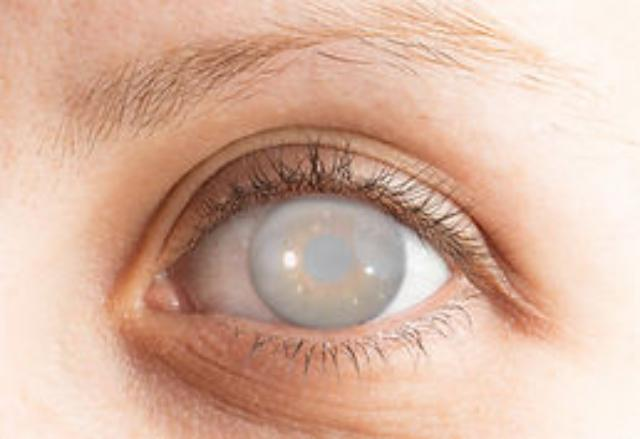eye: (250, 191, 406, 331)
